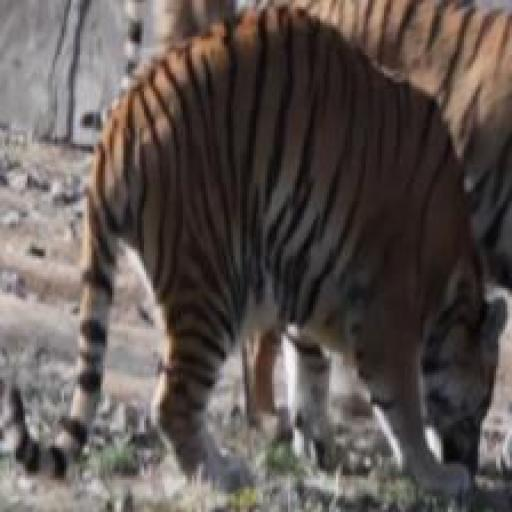Tiger: (50, 7, 512, 512)
